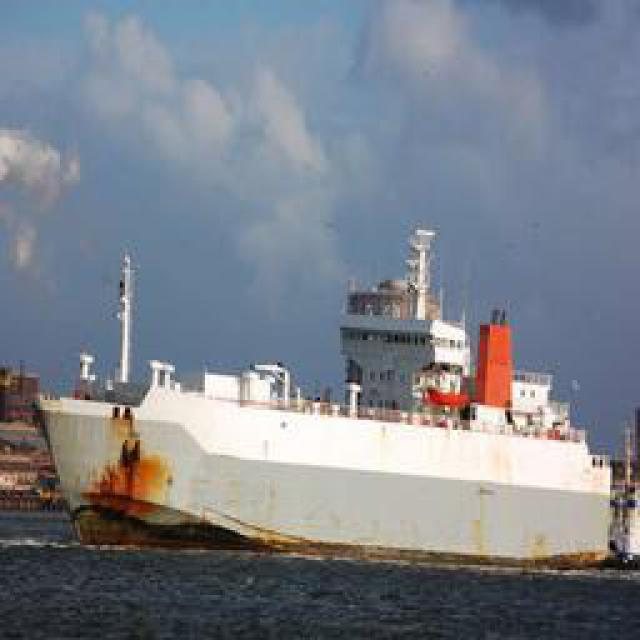Ship: (41, 212, 629, 572)
